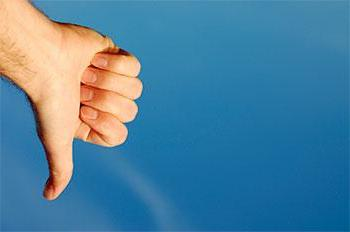thumbsdown: (39, 20, 145, 201)
